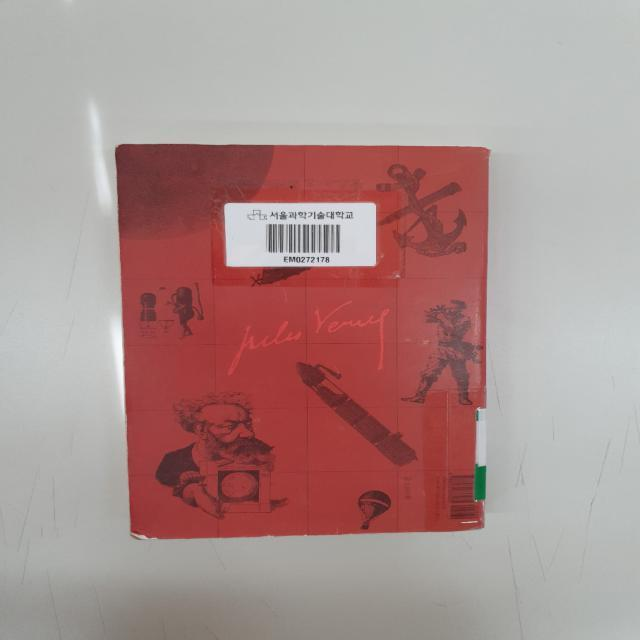Ripped: (477, 141, 498, 164)
Wornout: (120, 317, 142, 481), (112, 142, 161, 158), (126, 526, 168, 542), (442, 523, 486, 534), (255, 532, 286, 541), (298, 531, 313, 540)
